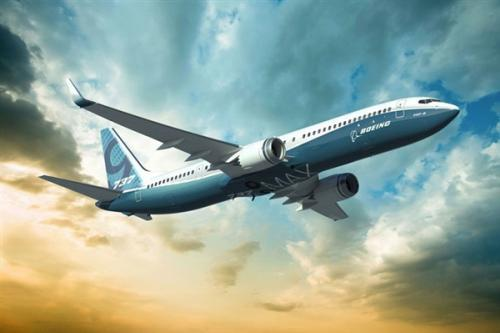airplane: (43, 87, 469, 221)
